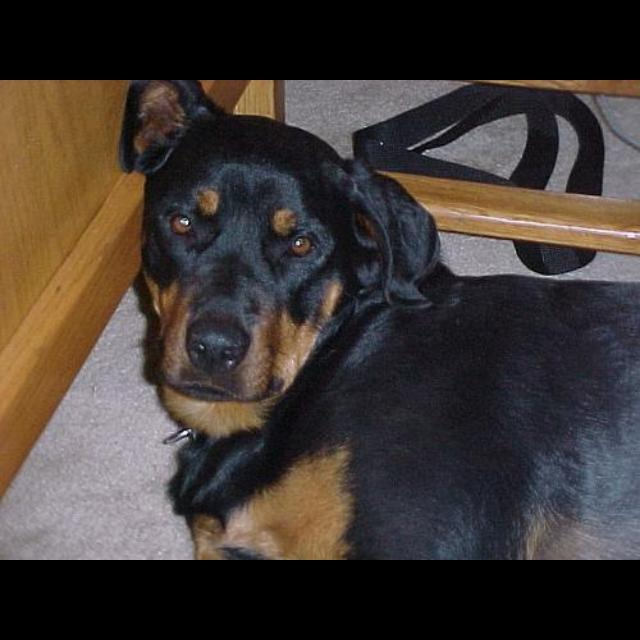rottweiler: (119, 81, 639, 559)
